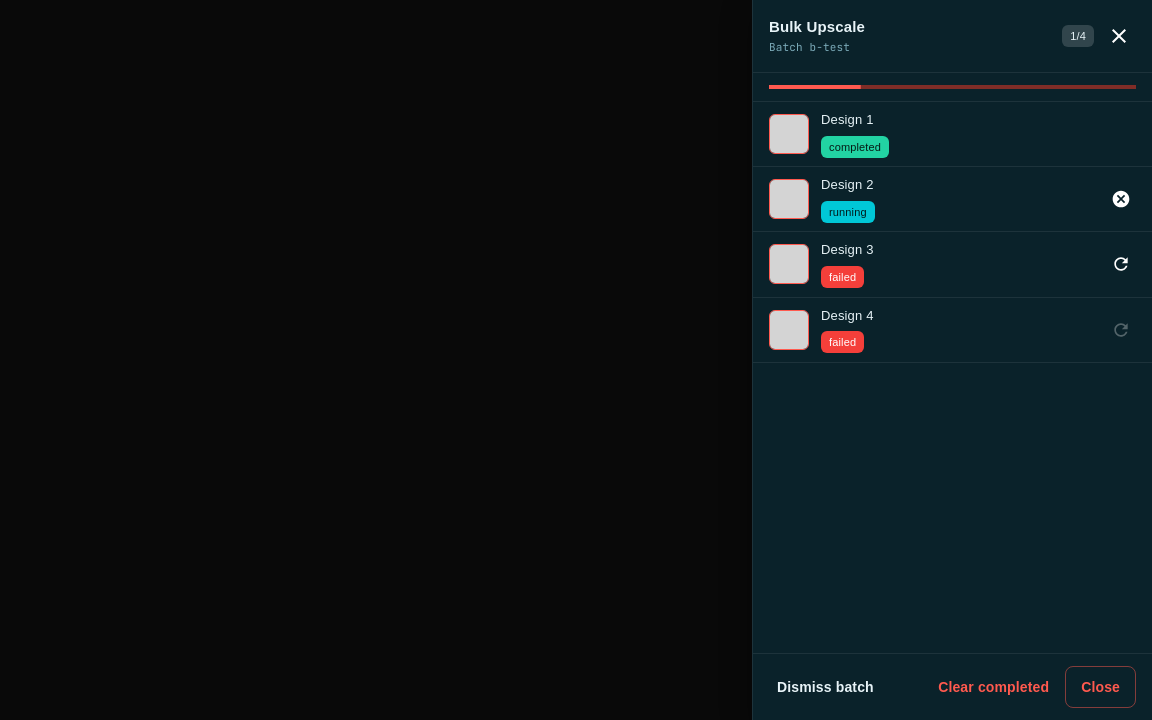
Test case: BulkUpscaleDrawer › hides completed rows when "Clear completed" is toggled
The image size is (1152, 720).
Click the button "Clear completed": (994,687) [930,666,1057,708]
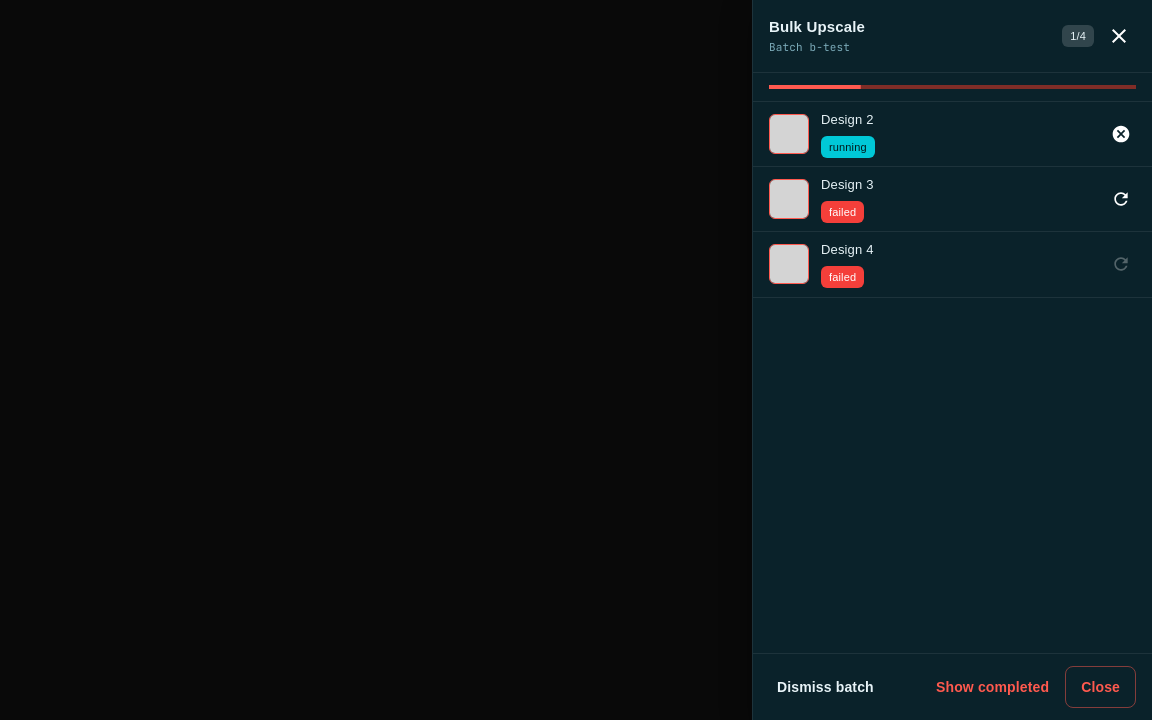
Check: the number of list items is 3, box [753,102,1151,167]; [753,167,1151,232]; [753,232,1151,298]
